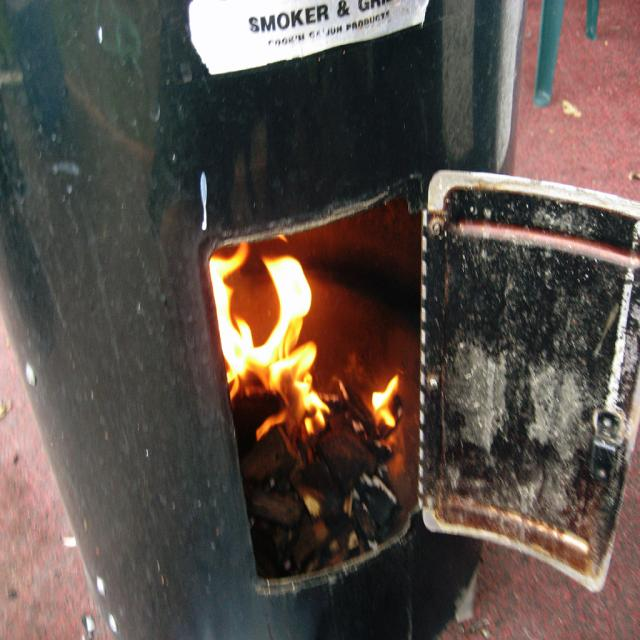fire: (214, 249, 334, 447)
